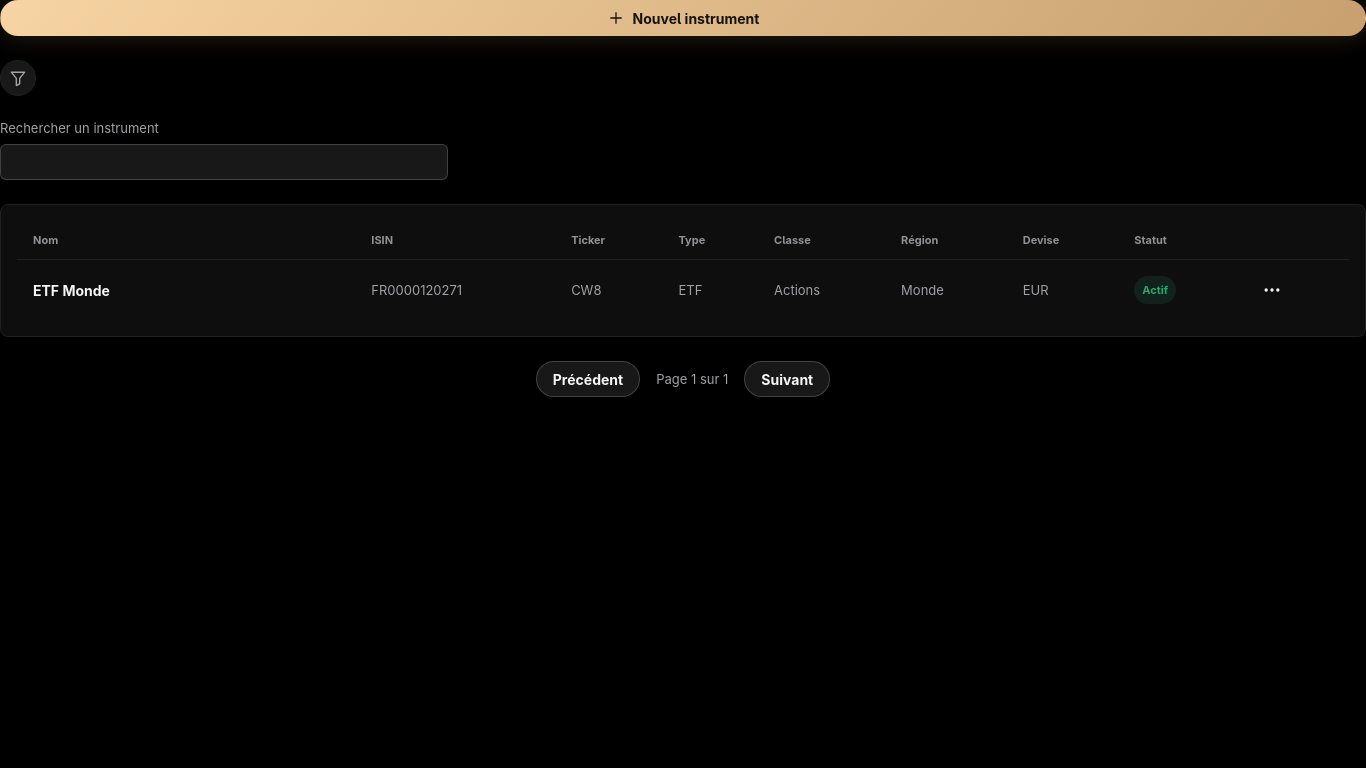
it: InstrumentsPage › refetches, closes the dialog and explains a stale status change
Click the button named "Actions pour ETF Monde" at [1272, 290], box [1254, 272, 1290, 308]
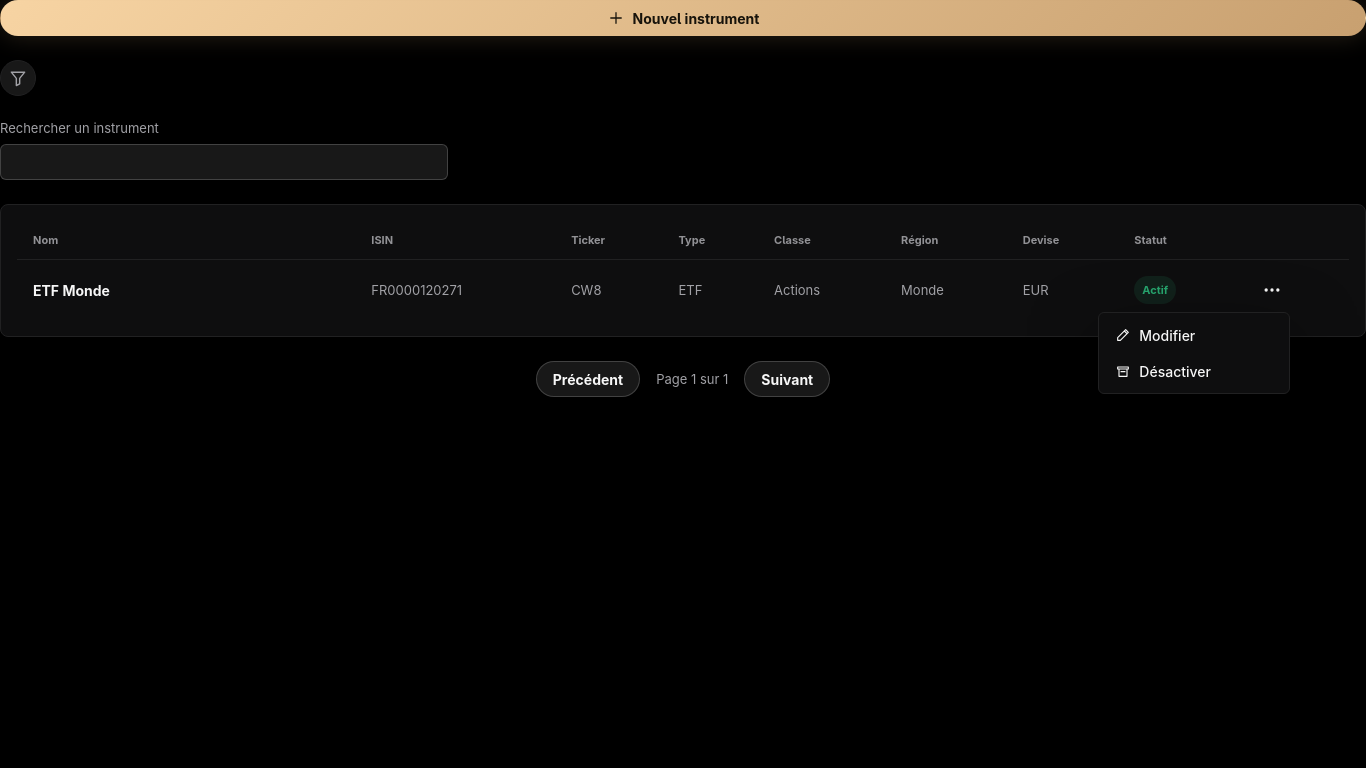
Click the button "Désactiver" at [1194, 371], box [1103, 353, 1285, 389]
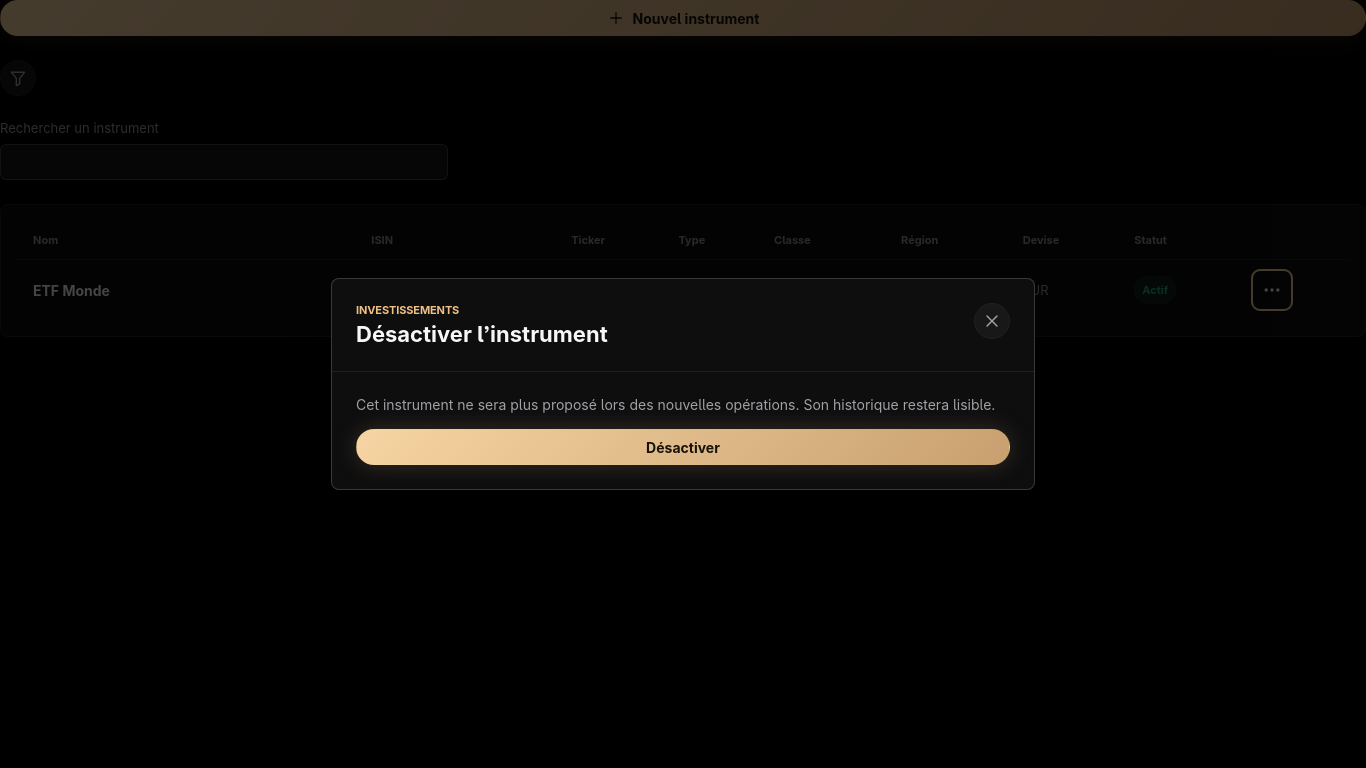
Click the button "Désactiver" at [683, 447], box [356, 429, 1010, 465]
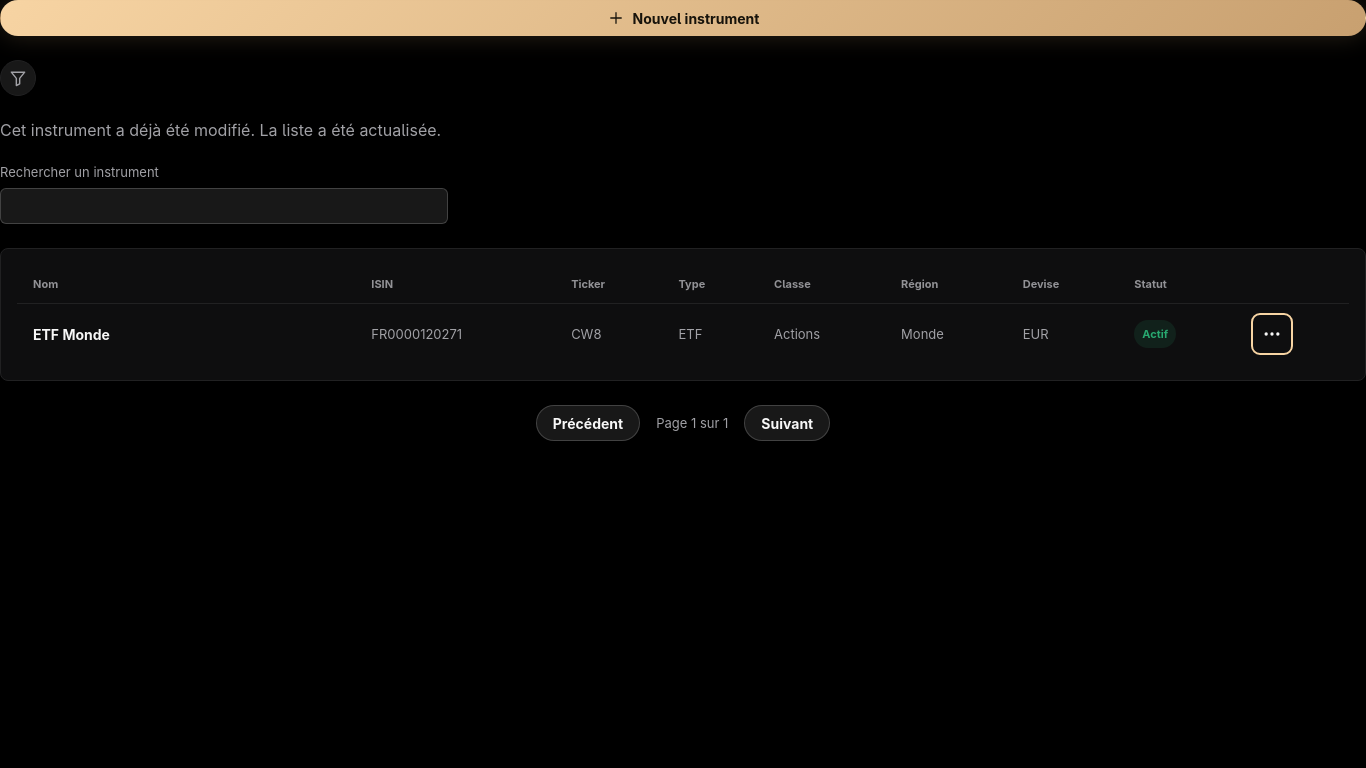
Check: the message shows "déjà été modifié", box [0, 120, 441, 140]
Check: the heading "Désactiver" is gone
